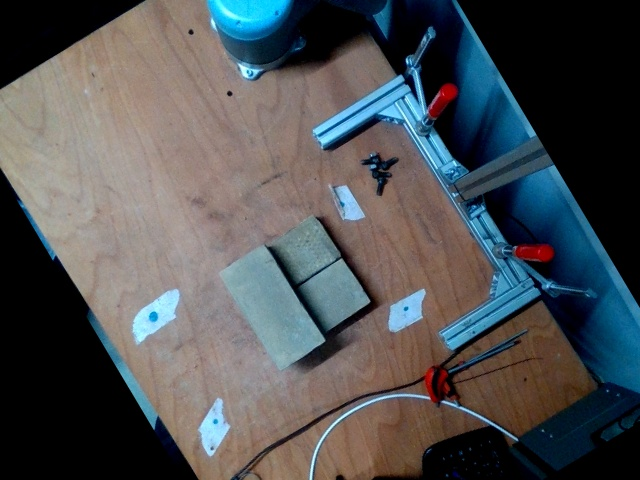brick: (216, 242, 325, 371)
